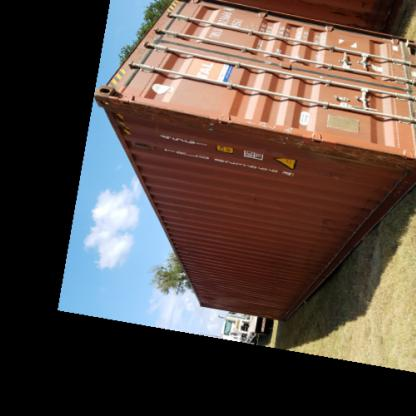Damage: (267, 138, 413, 178), (106, 87, 173, 134), (291, 206, 331, 274), (196, 294, 232, 312), (172, 237, 188, 267)
